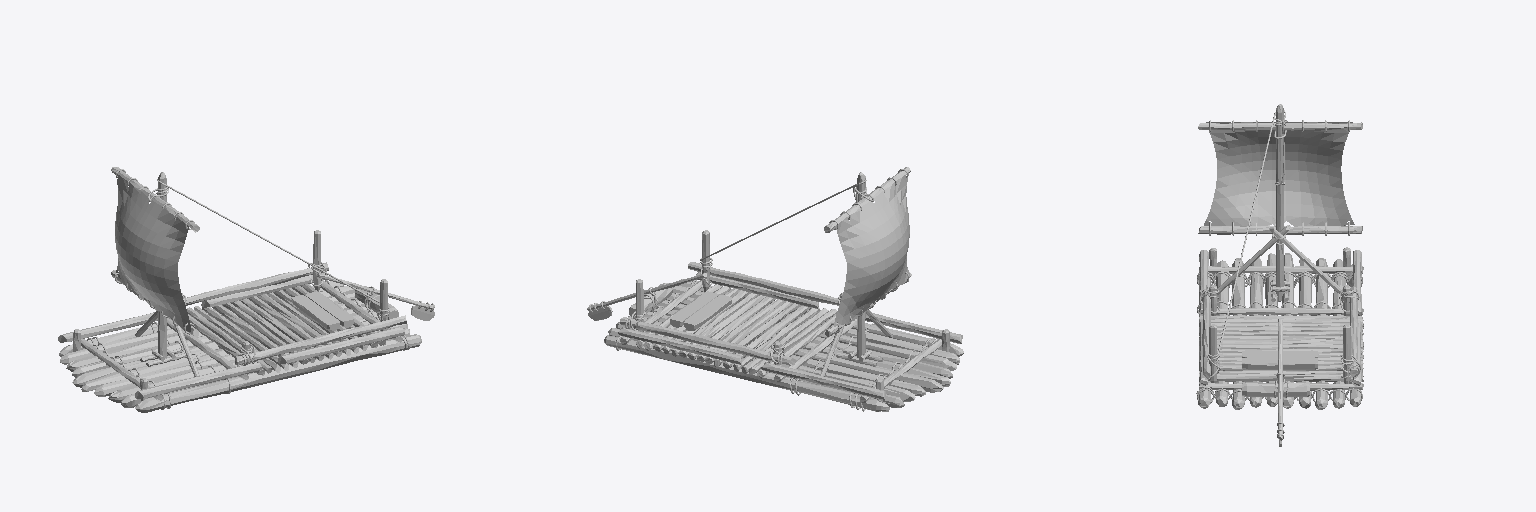
Rendered from Voyager ship.obj.
3 renders of one model, left to right at view 1: azimuth 30°, elevation 25°; view 2: azimuth 150°, elevation 25°; view 3: azimuth 270°, elevation 25°, orthographic.
Parts seen in each view (by area): view 1: Wooden_boat_Cylinder.055; view 2: Wooden_boat_Cylinder.055; view 3: Wooden_boat_Cylinder.055.
Boxes of the visible parts, x1=… form: Wooden_boat_Cylinder.055: x1=58, y1=167, x2=434, y2=412; Wooden_boat_Cylinder.055: x1=587, y1=167, x2=963, y2=411; Wooden_boat_Cylinder.055: x1=1196, y1=104, x2=1363, y2=446.
Size of the model in its own units: 0.4208 by 0.2395 by 0.1697.